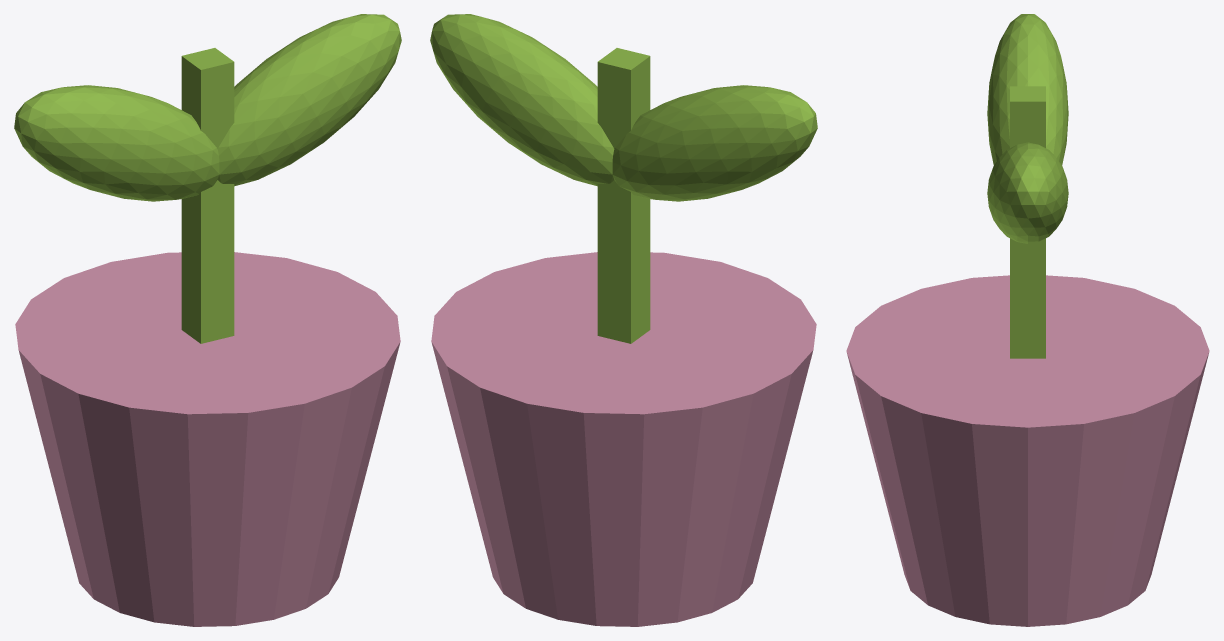
The model's file is demo-sprout.glb.
3 views of the same model, side by side, from view 1: azimuth 30°, elevation 25°; view 2: azimuth 150°, elevation 25°; view 3: azimuth 270°, elevation 25° (orthographic). The views are drawn at different scales.
Visible parts, largest first — view 1: pot, leaf_1, leaf_-1, stem; view 2: pot, leaf_1, leaf_-1, stem; view 3: pot, leaf_-1, leaf_1, stem.
Boxes of the visible parts, x1,y1,x2,y2 form: pot: [15, 252, 400, 626]; leaf_1: [217, 14, 401, 186]; leaf_-1: [14, 85, 219, 201]; stem: [181, 48, 234, 343]; pot: [431, 252, 816, 626]; leaf_1: [430, 14, 614, 186]; leaf_-1: [612, 85, 817, 201]; stem: [597, 48, 650, 343]; pot: [846, 275, 1209, 626]; leaf_-1: [987, 14, 1068, 165]; leaf_1: [987, 142, 1068, 243]; stem: [1010, 86, 1045, 358].
Size of the model in its own units: 2.84 by 3.68 by 2.5.
